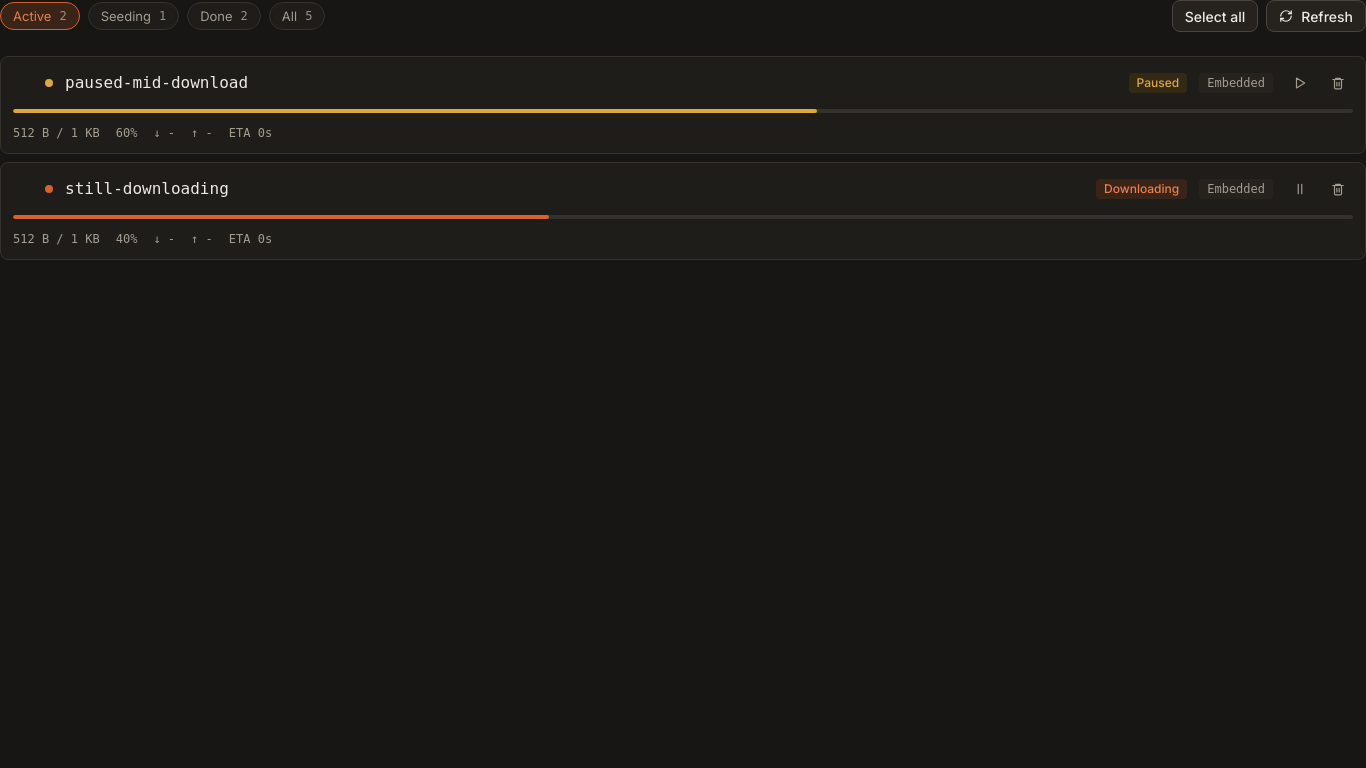
Queue filtering › labels the delete-data option and preserves the full name in the removal dialog
Click the button without text in the row of "still-downloading" at (1338, 189), box left=1323, top=175, right=1353, bottom=203
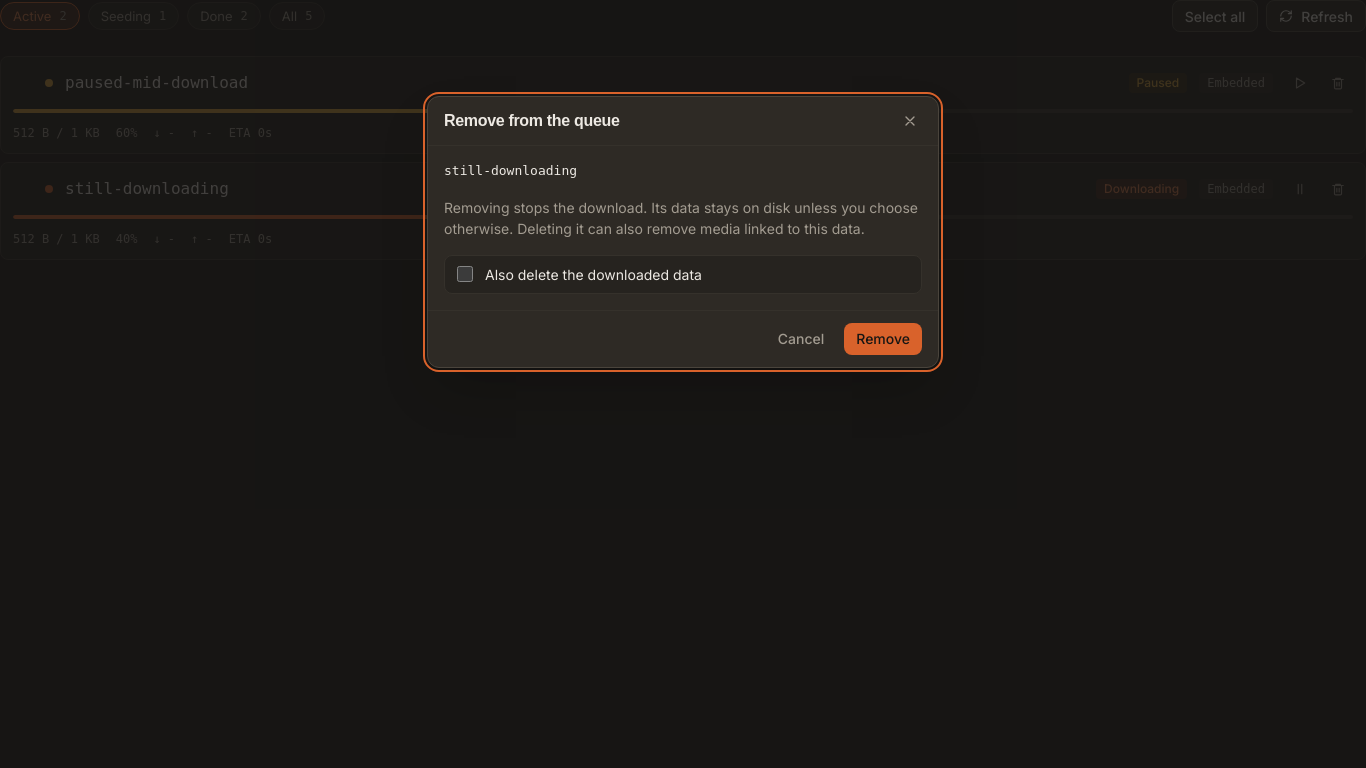
Expected: the label "Also delete the downloaded data" is shown, left=444, top=255, right=922, bottom=294
Expected: the text titled "still-downloading" is shown, left=444, top=163, right=577, bottom=178
